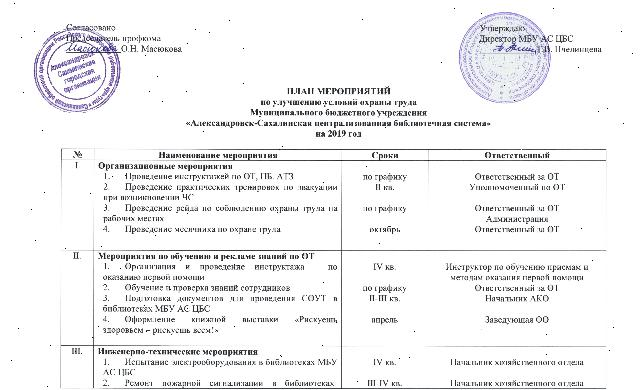stamp: (459, 12, 551, 104), (33, 29, 119, 112)
